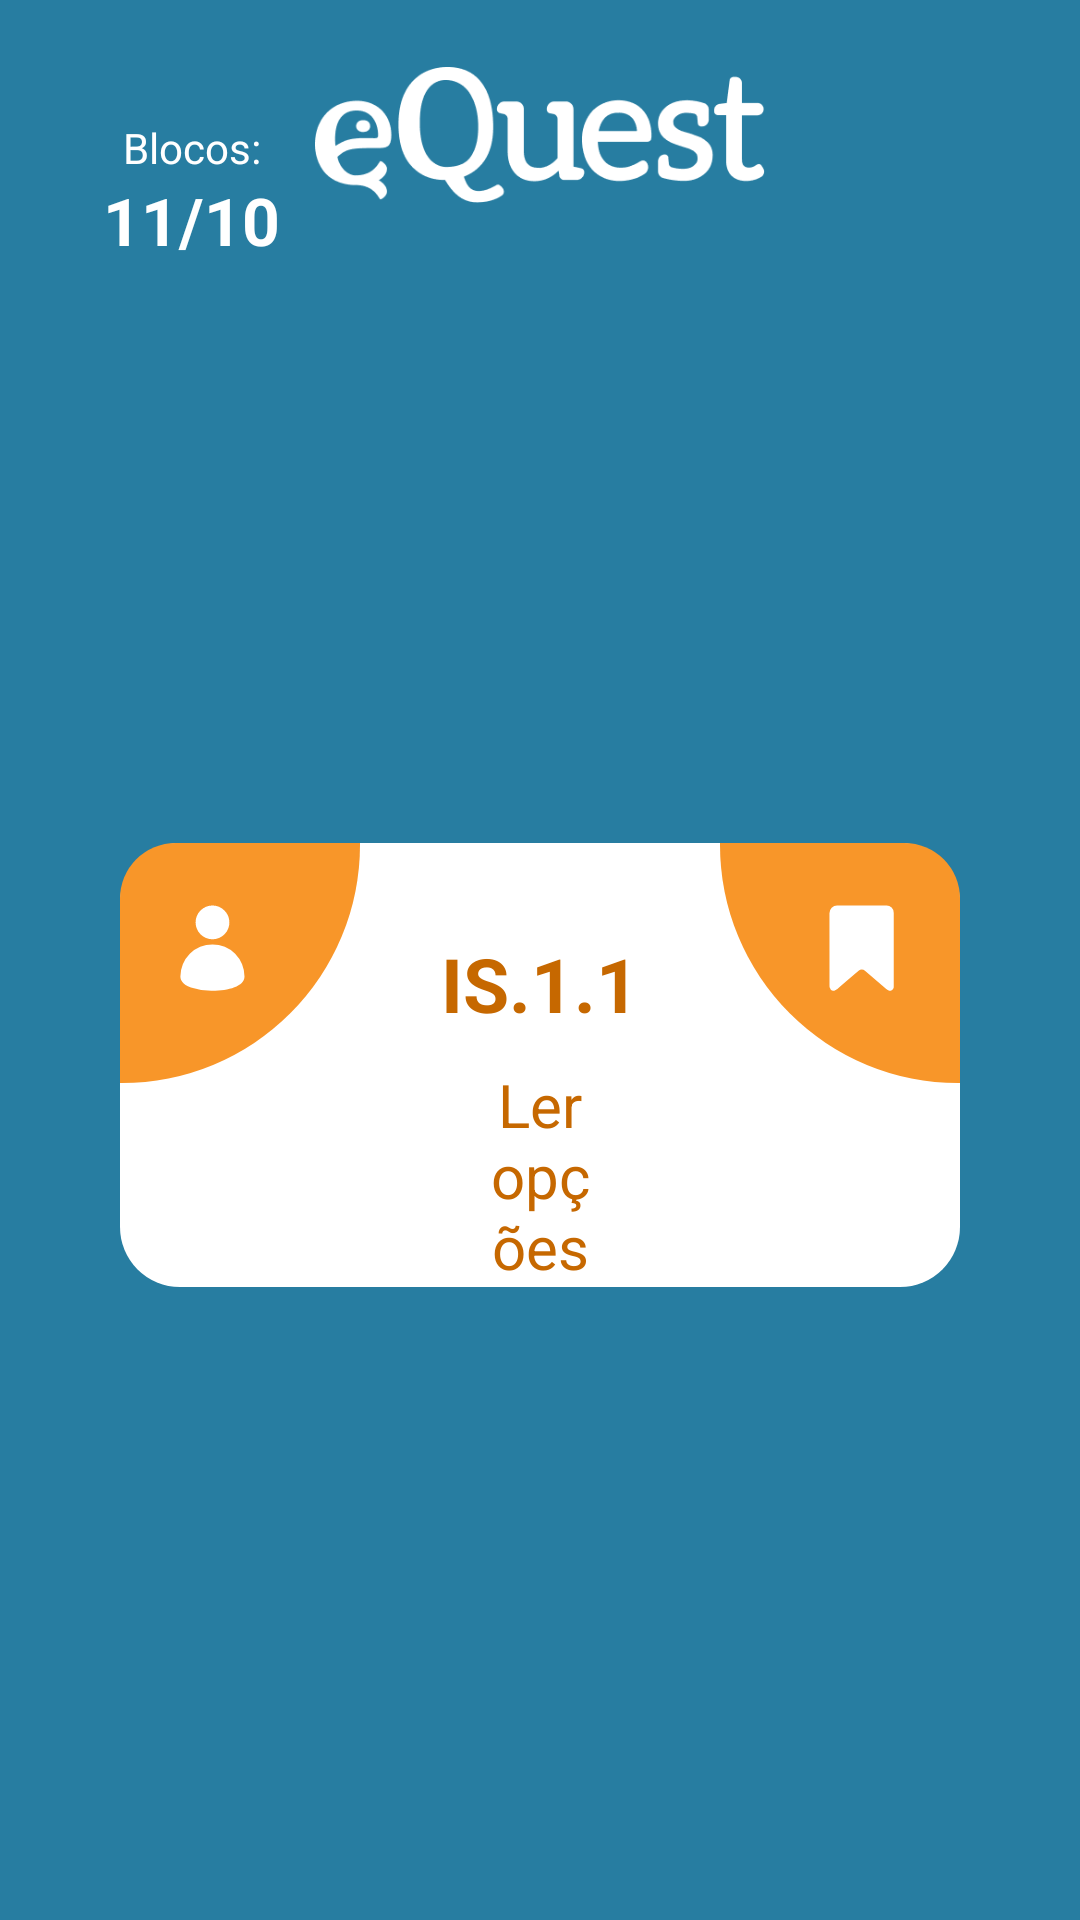

Screen size 1080×1920. Icon name, then its center in pixels as (x,y):
save: (840,963)
user: (240,963)
